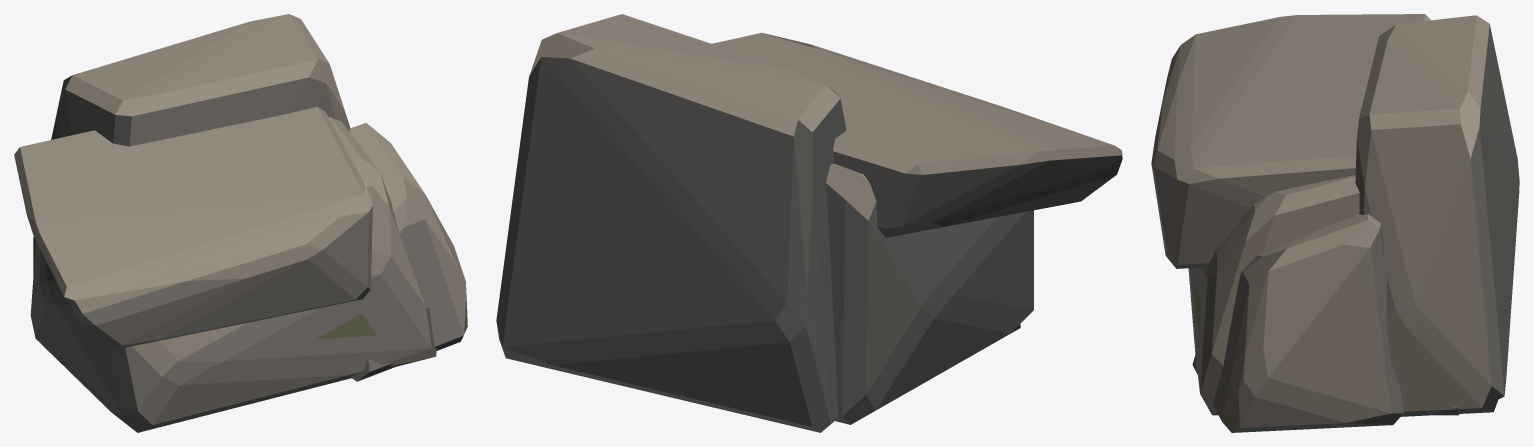
Rendered from verdant-cliff-ledge.glb.
The picture shows the model from 3 angles, left to right: view 1: azimuth 30°, elevation 25°; view 2: azimuth 150°, elevation 25°; view 3: azimuth 270°, elevation 25°; orthographic projection. The views are drawn at different scales.
Parts seen in each view (by area): view 1: verdant-cliff-ledge; view 2: verdant-cliff-ledge; view 3: verdant-cliff-ledge.
Boxes of the visible parts, left/top/right/bottom form: verdant-cliff-ledge: left=14, top=14, right=467, bottom=432; verdant-cliff-ledge: left=496, top=14, right=1122, bottom=432; verdant-cliff-ledge: left=1151, top=14, right=1519, bottom=432.
Size of the model in its own units: 3.83 by 2.27 by 2.62.
Materials: 1 (1 with a texture image).
